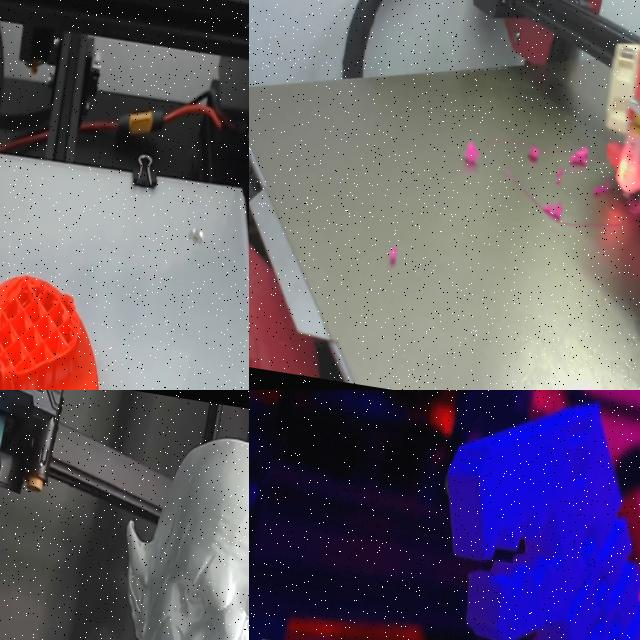spaghetti: (506, 169, 617, 227), (463, 142, 480, 166), (570, 147, 588, 165), (628, 198, 640, 216), (594, 184, 610, 196), (389, 247, 398, 266), (529, 147, 540, 162), (557, 170, 563, 183)
